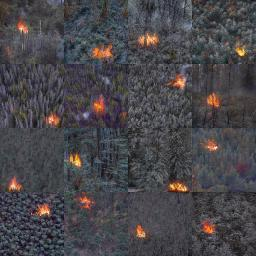Small fire: (10, 15, 35, 42), (39, 109, 66, 131)
